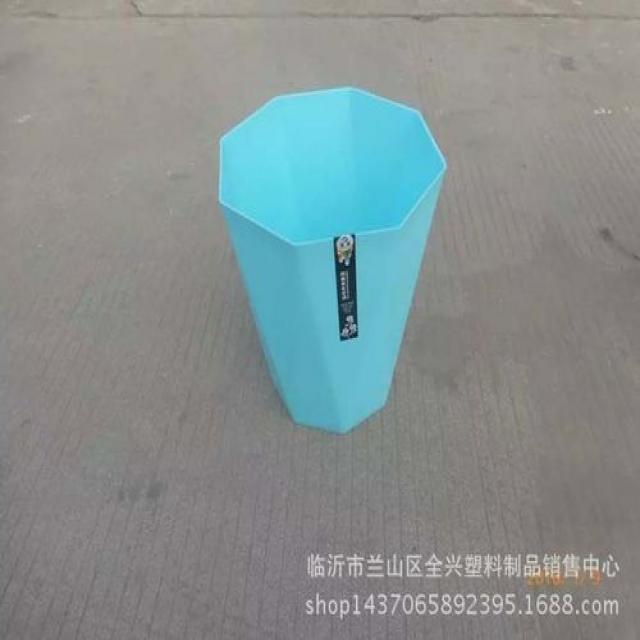Dustbin: (215, 82, 451, 441)
